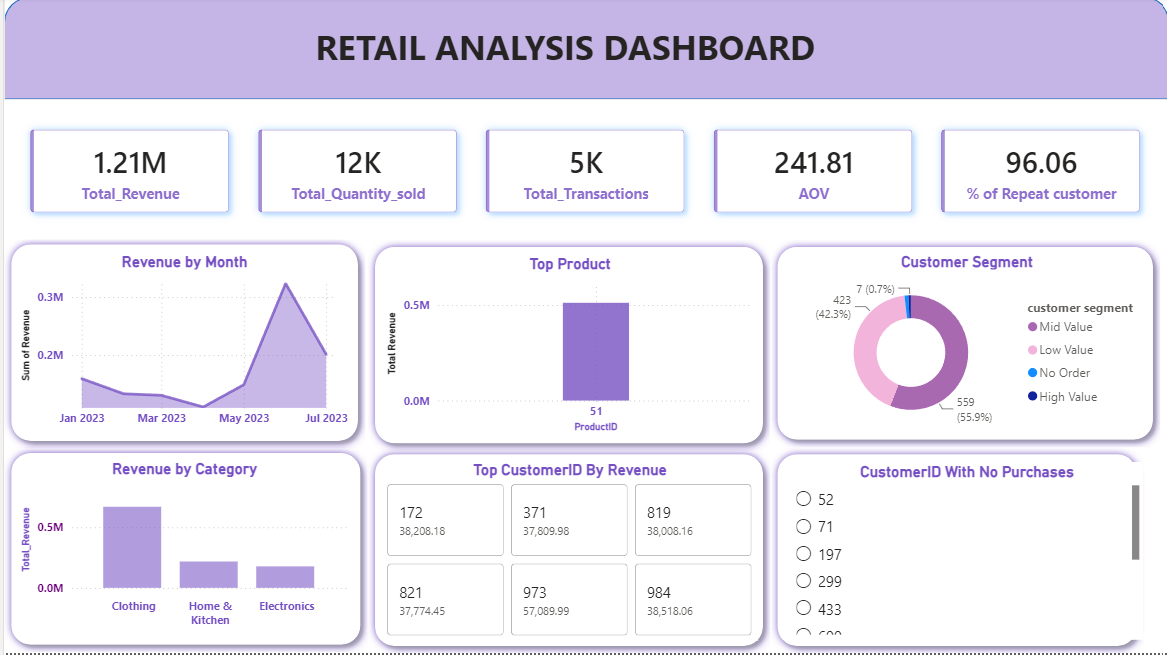

The page's visual inventory and layout, read from the dashboard file:
{"tool":"powerbi","page":{"name":"Page 1","canvas":[1280,720],"ordinal":0},"visuals":[{"type":"shape","box":[0,0,1280.3,112.5],"z":0},{"type":"shape","box":[0,263.5,396.6,231.9],"z":1000},{"type":"shape","box":[399.3,266.2,441.9,231.9],"z":2000},{"type":"shape","box":[841.2,266.2,428.1,227.8],"z":3000},{"type":"shape","box":[841.2,494,410.3,226.4],"z":4000},{"type":"shape","box":[399.3,494,441.9,226.4],"z":5000},{"type":"shape","box":[0,492.6,399.3,226.4],"z":6000},{"type":"cardVisual","fields":{"Data":["sales_transaction.Total_Revenue","sales_transaction.Total_Quantity_sold","sales_transaction.Total_Transactions","sales_transaction.AOV","sales_transaction.% of Repeat customer"]},"box":[0,116.6,1280.3,149.6],"z":7000},{"type":"textbox","box":[301.9,24.7,628.5,65.9],"z":9000},{"type":"lineChart","title":"Revenue by Month","fields":{"Y":["Sum(sales_transaction.Revenue)"],"Category":["sales_transaction.TransactionDate.Variation.Date Hierarchy.Year","sales_transaction.TransactionDate.Variation.Date Hierarchy.Month"]},"box":[13.7,279.9,369.1,200.3],"z":10000},{"type":"clusteredColumnChart","title":"Top Product","fields":{"Y":["Sum(top product.product)"],"Category":["top product.ProductID"]},"box":[415.8,282.7,411.7,200.3],"z":11000},{"type":"donutChart","title":"Customer Segment","fields":{"Y":["CountNonNull(customer_profiles.customer segment)"],"Category":["customer_profiles.customer segment"]},"box":[863.1,279.9,388.3,200.3],"z":12000},{"type":"clusteredColumnChart","title":"Revenue by Category","fields":{"Y":["sales_transaction.Total_Revenue"],"Category":["product_inventory.Category"]},"box":[13.7,507.7,369.1,192.1],"z":13000},{"type":"advancedSlicerVisual","title":"Top CustomerID By Revenue","fields":{"Values":["customer_profiles.CustomerID"],"Label":["Sum(customer_profiles.Total Revenue)"]},"box":[415.8,509.1,411.7,197.6],"z":14000},{"type":"listSlicer","title":"CustomerID With No Purchases","fields":{"Values":["customer_profiles.CustomerID"]},"box":[863.1,510.5,388.3,194.9],"z":14001}]}

Visuals, with their boxes in screenshot pixels (x1, y1, x2, y2), scaled from the page's 1280x720 canvas onto the 1167x655 screenshot:
shape: rect(0, 0, 1166, 102)
shape: rect(0, 240, 362, 451)
shape: rect(364, 242, 767, 453)
shape: rect(767, 242, 1157, 449)
shape: rect(767, 449, 1141, 654)
shape: rect(364, 449, 767, 654)
shape: rect(0, 448, 364, 654)
cardVisual - sales_transaction.Total_Revenue x sales_transaction.Total_Quantity_sold: rect(0, 106, 1166, 242)
textbox: rect(275, 22, 848, 82)
"Revenue by Month" lineChart: rect(12, 255, 349, 437)
"Top Product" clusteredColumnChart: rect(379, 257, 754, 439)
"Customer Segment" donutChart: rect(787, 255, 1141, 437)
"Revenue by Category" clusteredColumnChart: rect(12, 462, 349, 637)
"Top CustomerID By Revenue" advancedSlicerVisual: rect(379, 463, 754, 643)
"CustomerID With No Purchases" listSlicer: rect(787, 464, 1141, 642)
